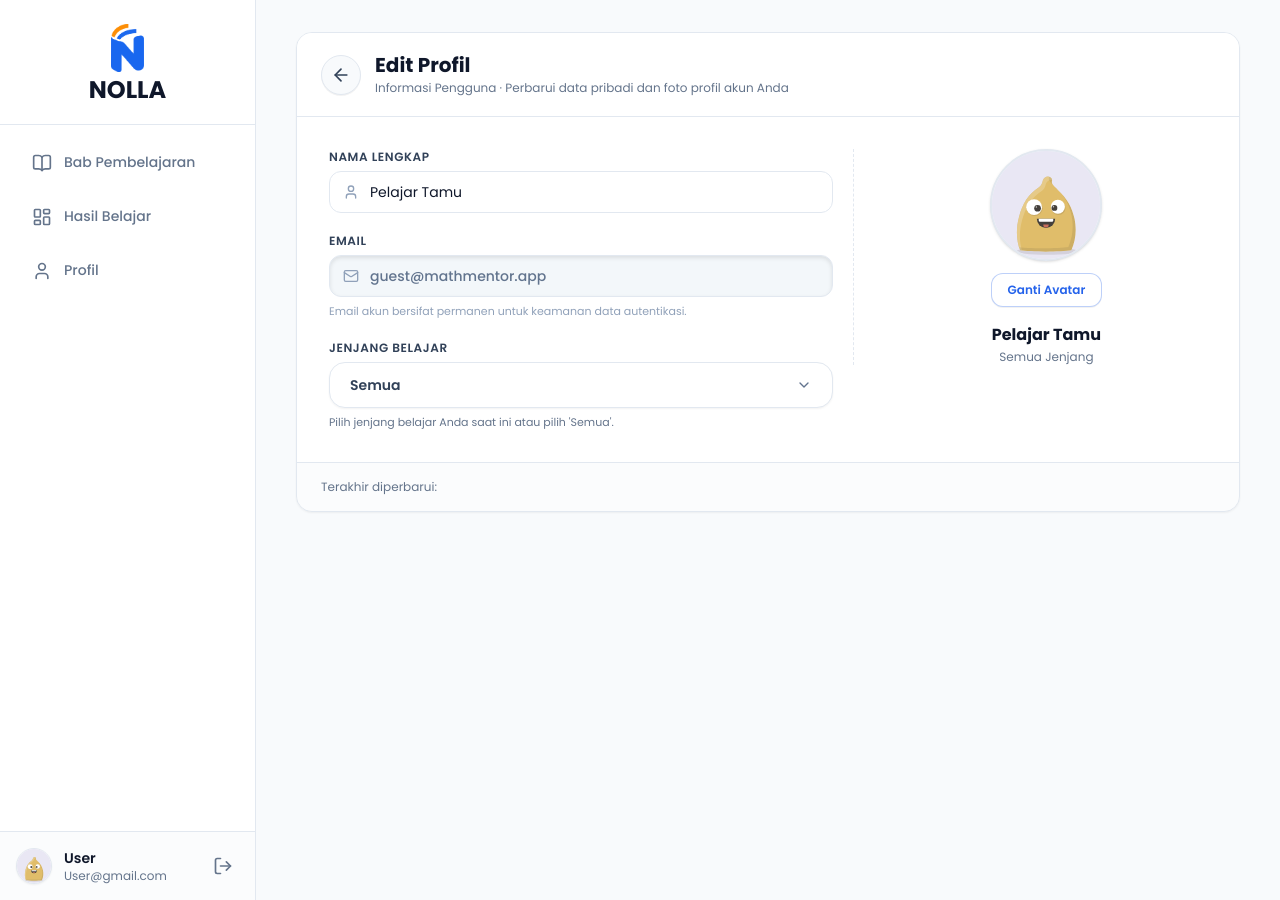
Test: EditProfile Component › dapat memilih avatar yang disediakan dari preset
The image size is (1280, 900).
Click the button "Ganti Avatar".
click(1046, 290)  # box x1=990 y1=273 x2=1102 y2=307
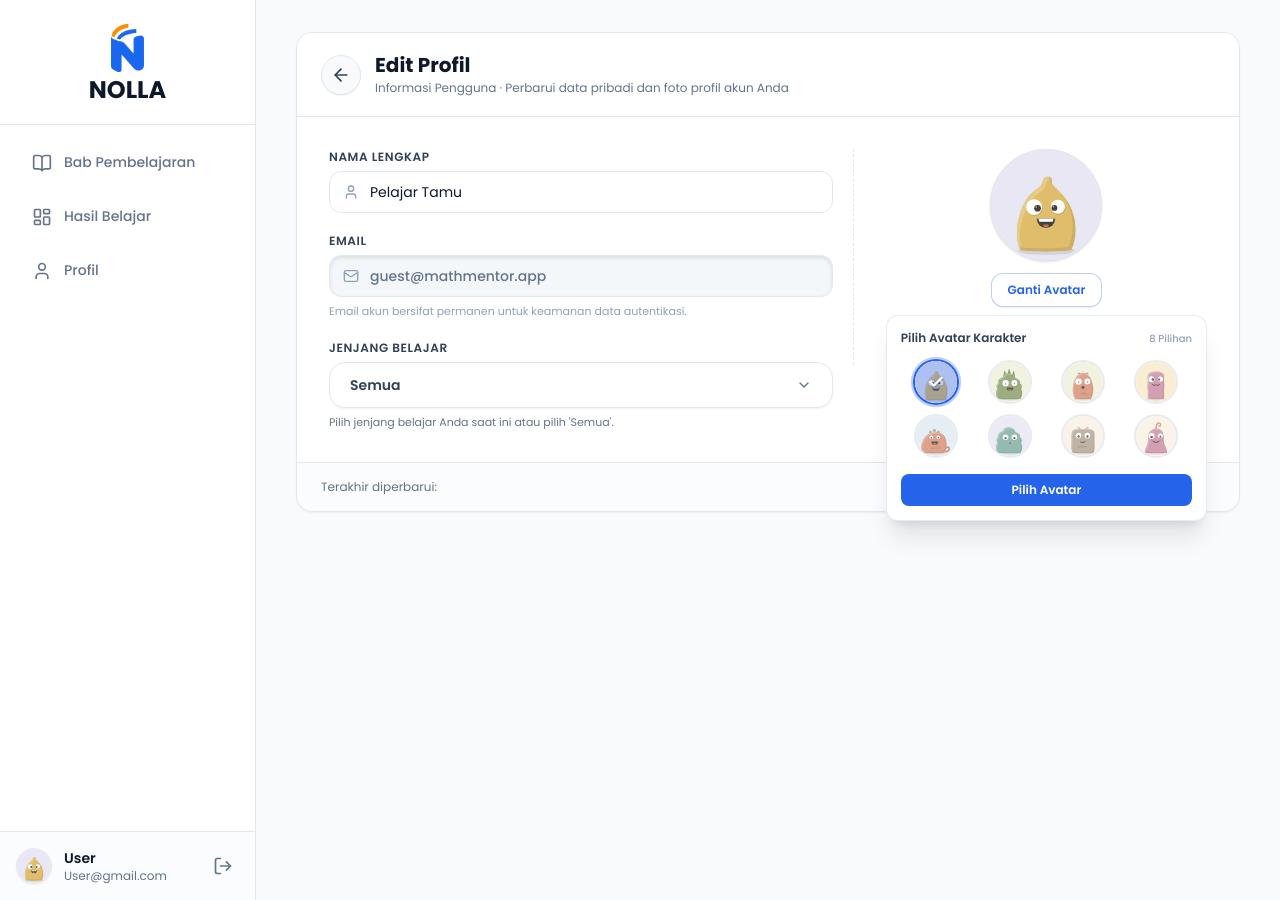
Check: the text "Pilih Avatar Karakter" is shown, box x1=901 y1=330 x2=1026 y2=346
Click the button titled "Pilih Avatar 2".
click(1010, 382)  # box x1=988 y1=360 x2=1032 y2=404
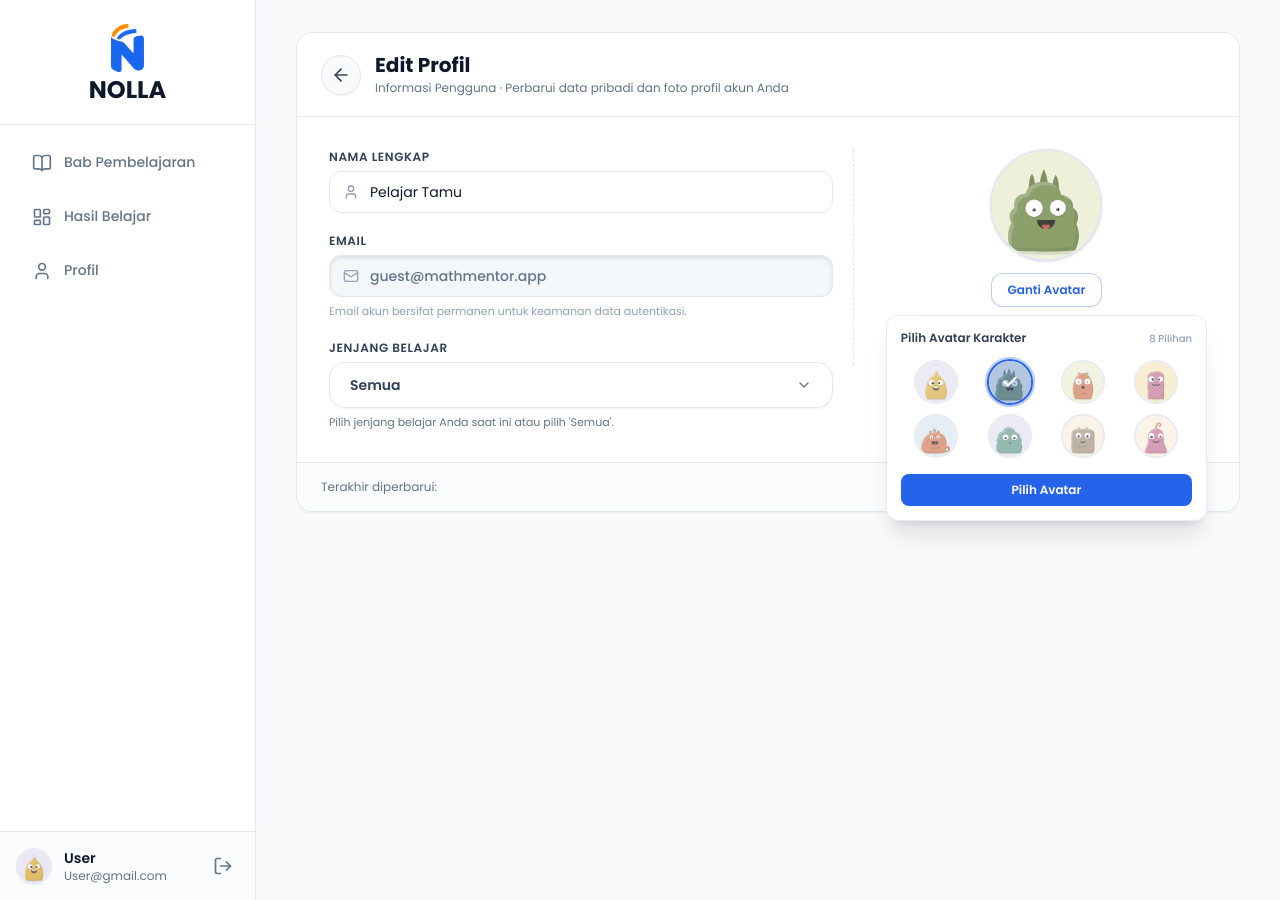
Click the button "Pilih Avatar".
click(1046, 490)  # box x1=901 y1=474 x2=1192 y2=506
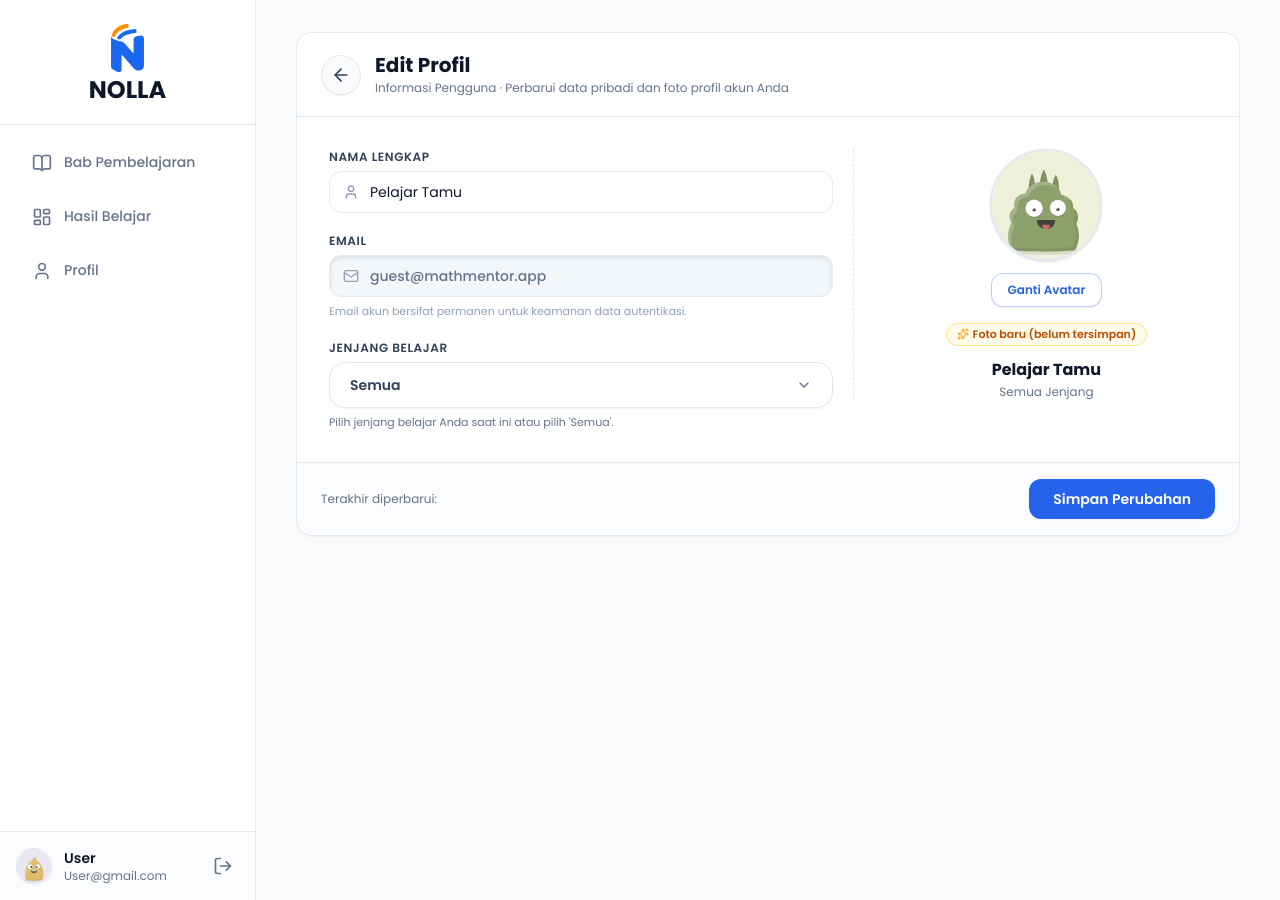
Check: the button "Simpan Perubahan" is shown, box x1=1029 y1=479 x2=1215 y2=519
